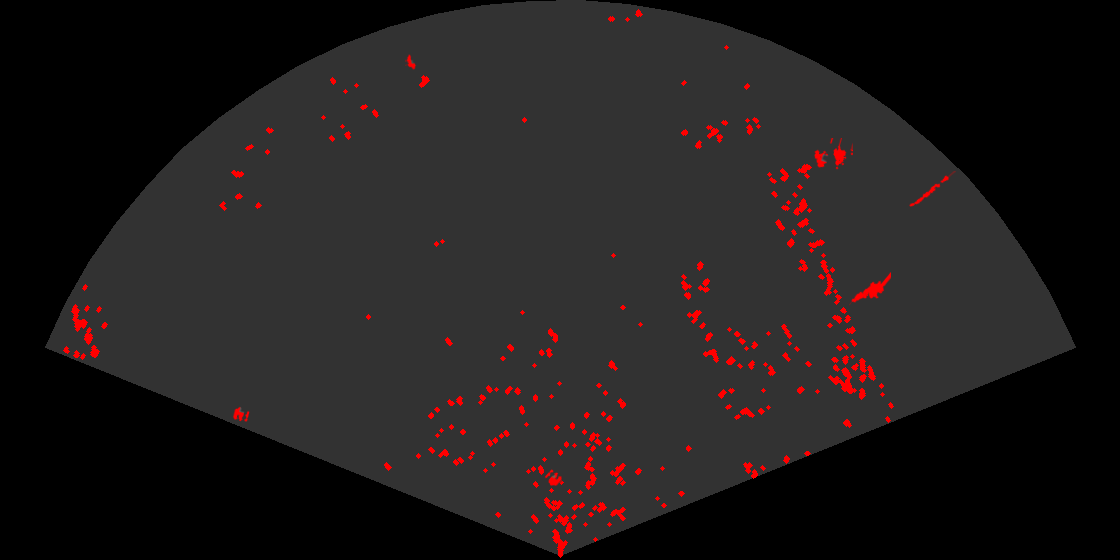AUV: (405, 53, 418, 71)
ball: (543, 468, 563, 488), (231, 405, 251, 423)
cage: (813, 138, 853, 171)
chain: (908, 171, 956, 208)
frogman: (849, 272, 891, 307)
